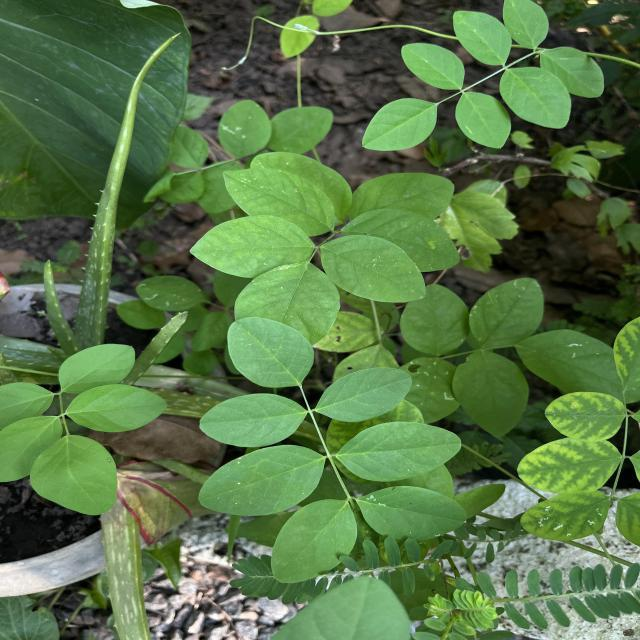Clitoria ternatea: (198, 444, 326, 516), (188, 214, 316, 280), (222, 168, 336, 238), (336, 421, 462, 483), (270, 498, 358, 584), (319, 234, 427, 304), (227, 316, 316, 388), (356, 485, 468, 542), (198, 393, 308, 448), (314, 367, 412, 422), (64, 384, 168, 434), (57, 342, 136, 394)
